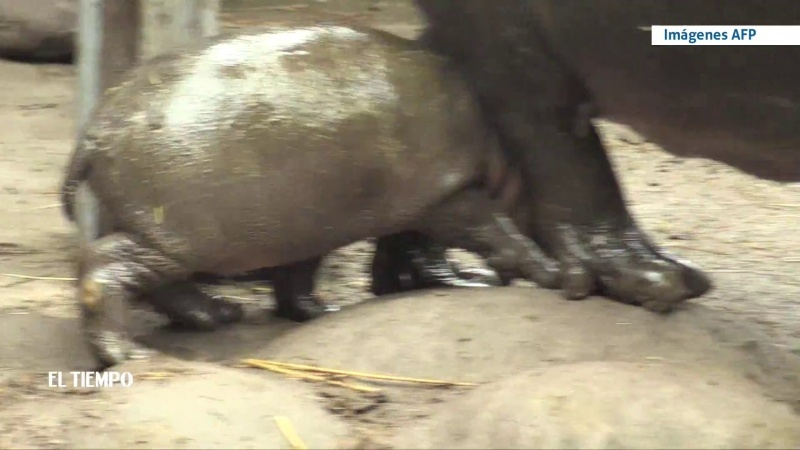hipopotamo: (52, 24, 575, 368)
